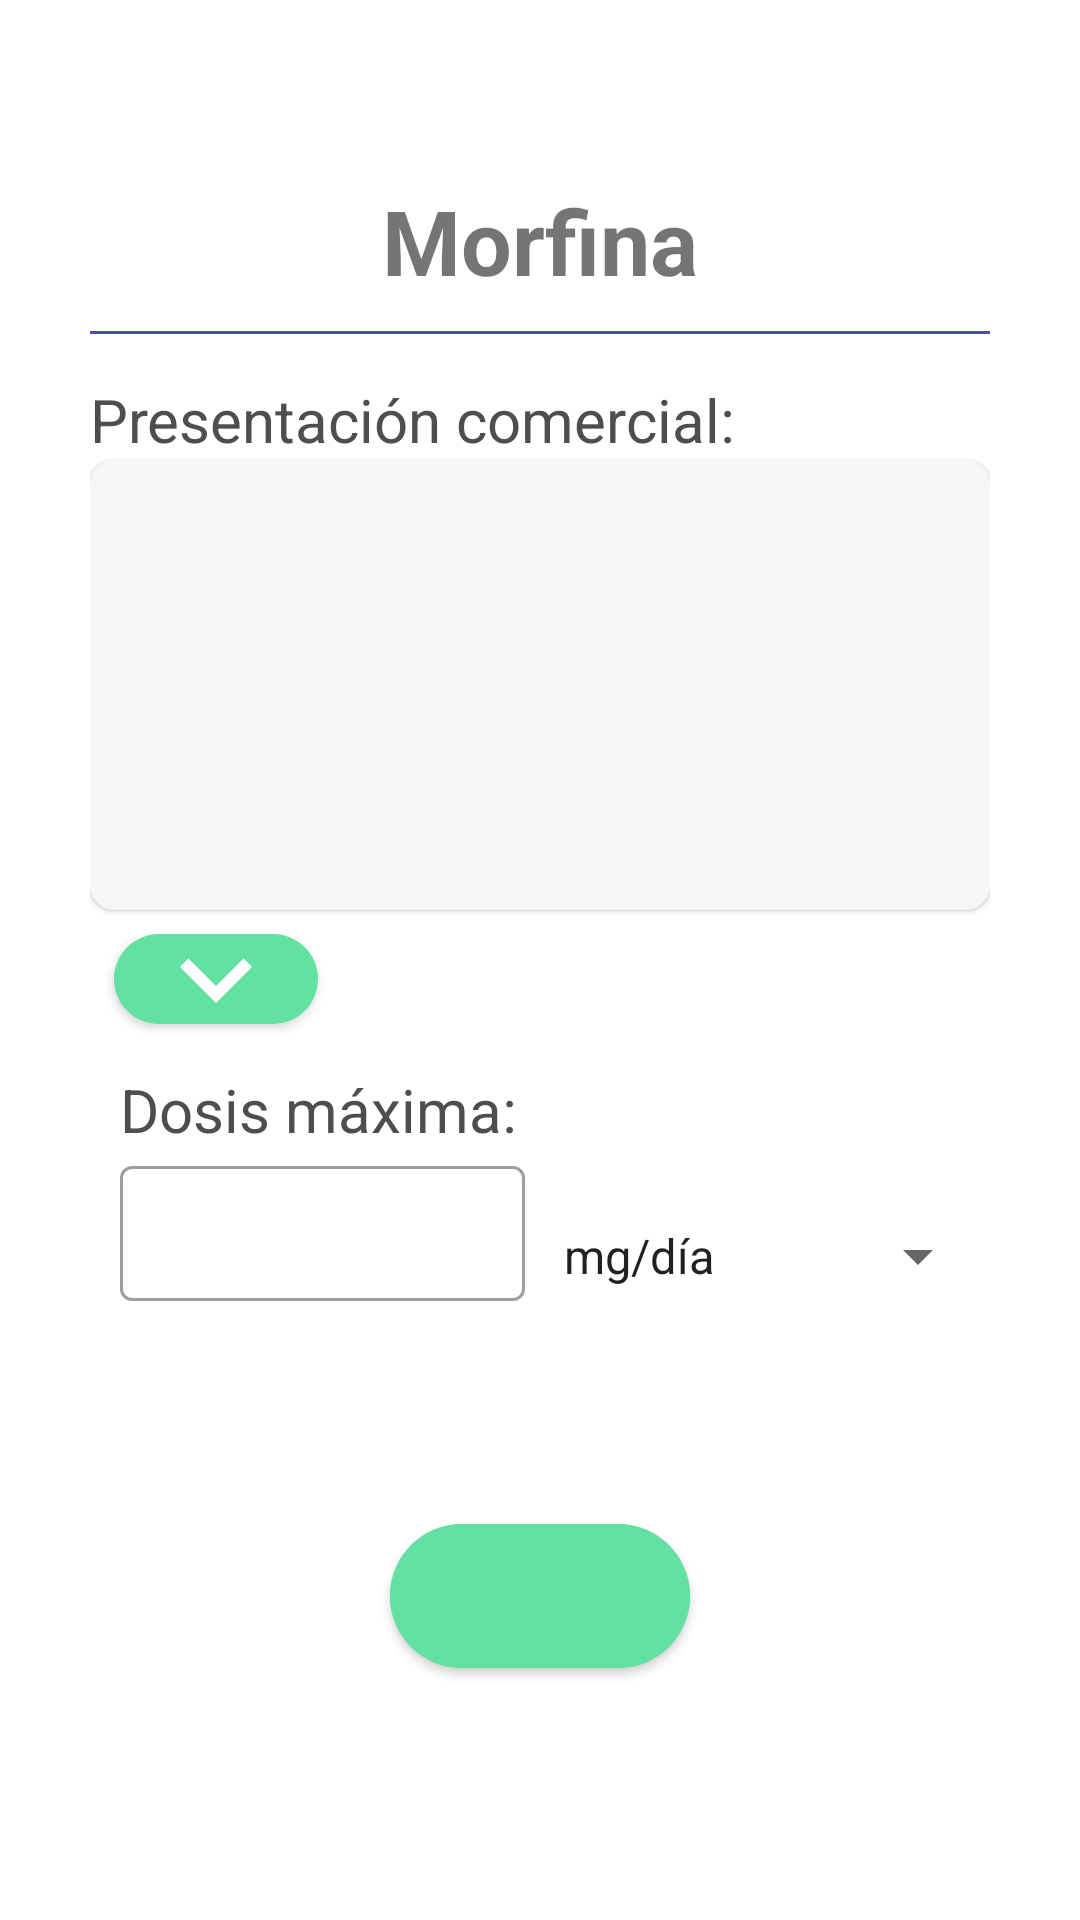

Screen size 1080px x 1920px. Icon name, then its center in pixels as point (x, y):
more: point (216, 979)
